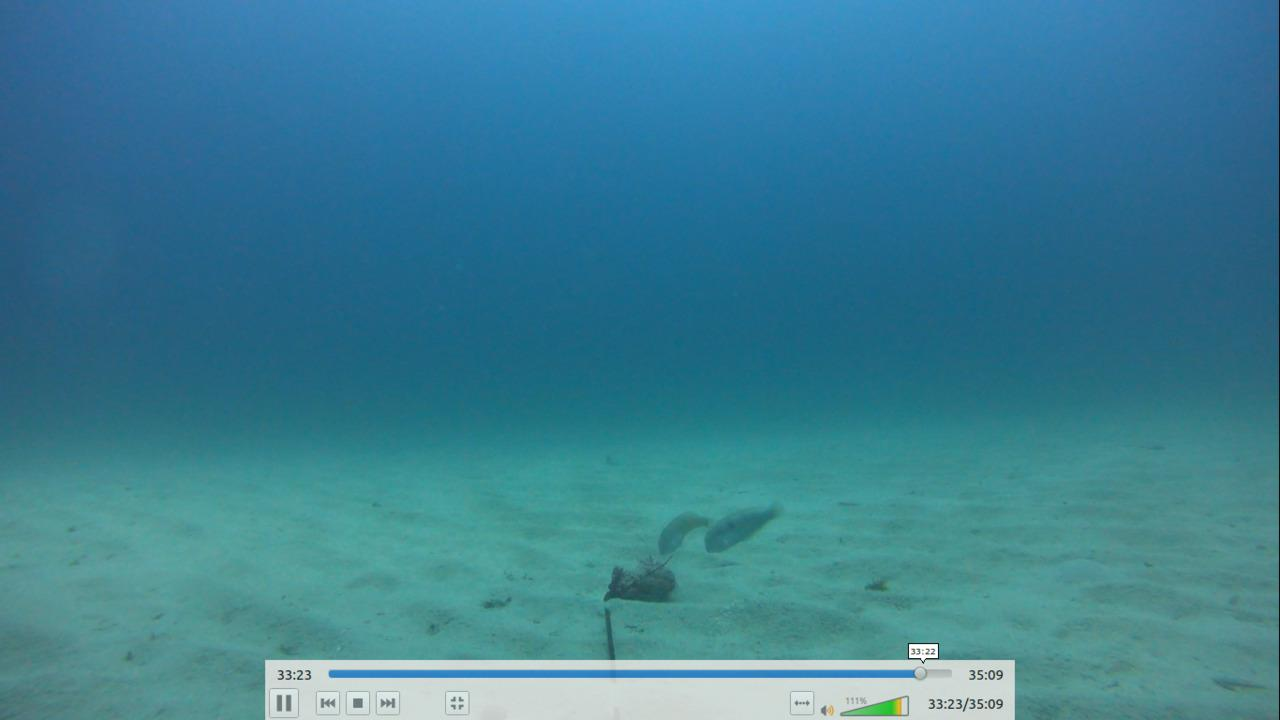raor: (704, 501, 781, 560), (652, 505, 706, 558)
